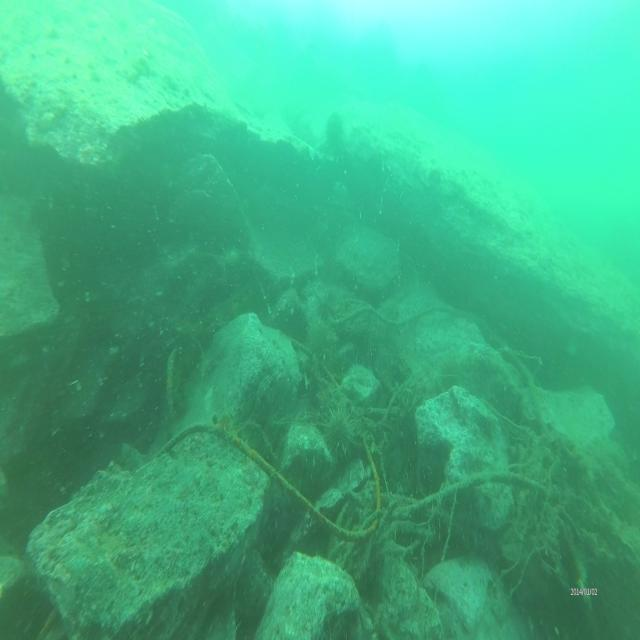echinus: (318, 406, 352, 454), (308, 320, 332, 352)
